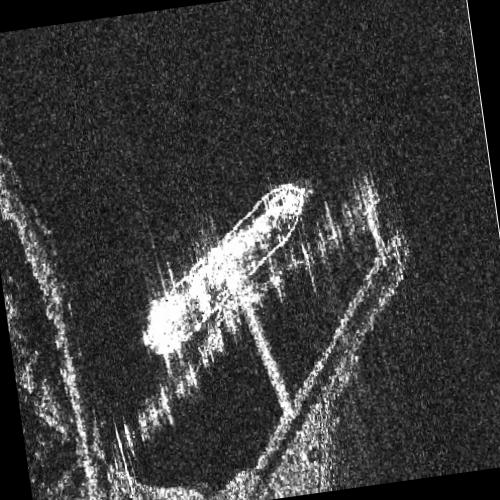ship: (145, 180, 309, 358)
